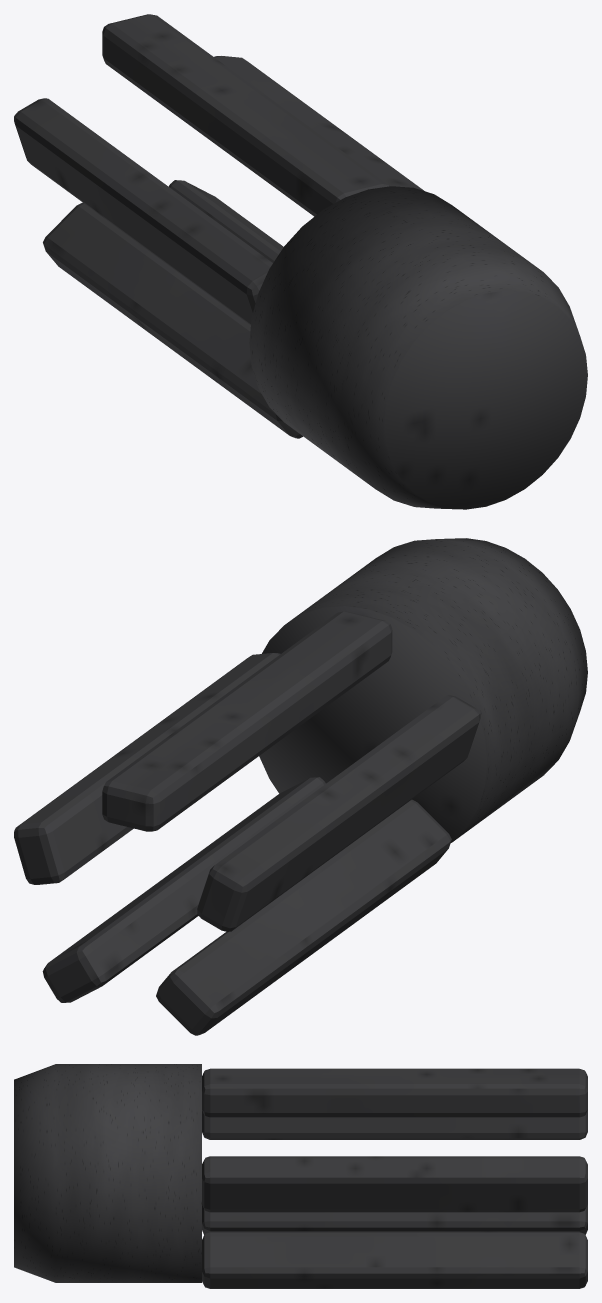
The model's file is flash_hider.glb.
3 views of the same model, one above another, from view 1: azimuth 30°, elevation 25°; view 2: azimuth 150°, elevation 25°; view 3: azimuth 270°, elevation 25° (orthographic). The views are drawn at different scales.
Visible parts, largest first — view 1: collar, prong0, prong1, prong2, prong4, prong3; view 2: collar, prong0, prong2, prong1, prong3, prong4; view 3: collar, prong3, prong4, prong0, prong1, prong2.
Boxes of the visible parts, x1,y1,x2,y2 form: collar: (249,186,587,509); prong0: (102,14,389,216); prong1: (14,98,272,325); prong2: (43,202,302,438); prong4: (214,56,424,191); prong3: (168,180,283,262); collar: (259,538,587,842); prong0: (102,611,392,831); prong2: (156,799,451,1035); prong1: (197,695,480,931); prong3: (42,777,325,1002); prong4: (14,653,280,884); collar: (14,1064,201,1282); prong3: (202,1232,587,1288); prong4: (202,1156,587,1212); prong0: (202,1068,587,1117); prong1: (202,1110,587,1139); prong2: (202,1204,587,1234).
Bounding box in the file's own units: 0.021 × 0.021 × 0.055.
Materials: 1 (1 with a texture image).
